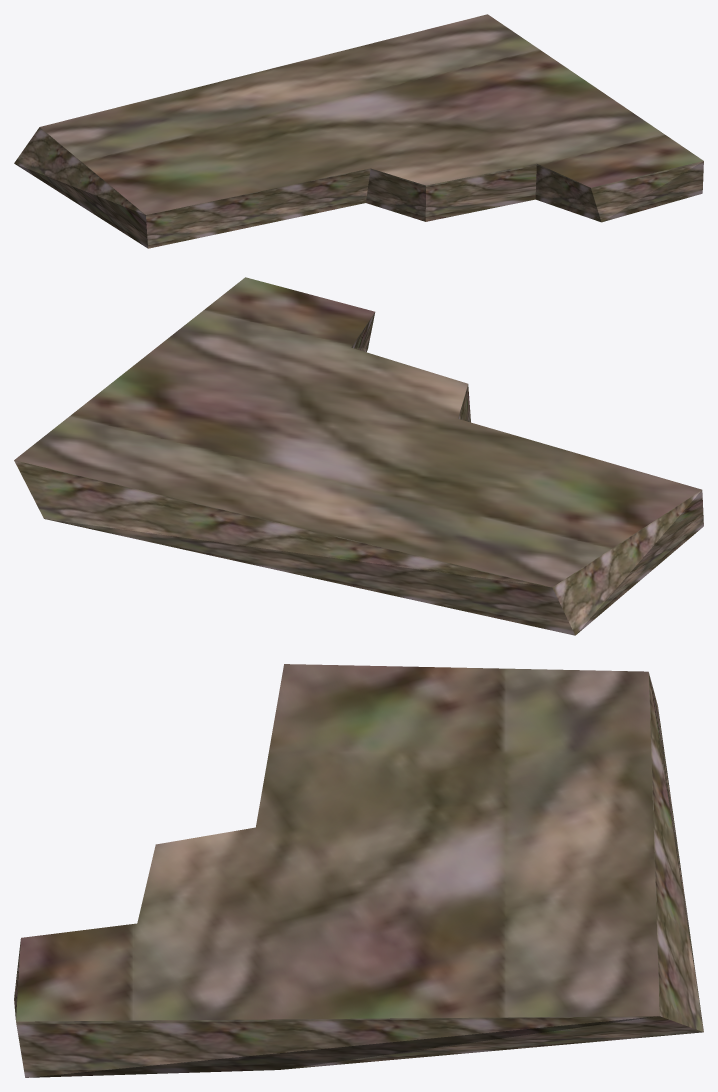
Rendered from Island_1_Block_2.gltf.
3 renders of one model, top to bottom at view 1: azimuth 30°, elevation 25°; view 2: azimuth 150°, elevation 25°; view 3: azimuth 270°, elevation 25°, orthographic. The views are drawn at different scales.
Parts seen in each view (by area): view 1: Island_1_Block_2; view 2: Island_1_Block_2; view 3: Island_1_Block_2.
Boxes of the visible parts, x1,y1,x2,y2 form: Island_1_Block_2: (14,14,703,248); Island_1_Block_2: (14,277,703,635); Island_1_Block_2: (14,664,703,1077).
Bounding box in the file's own units: 9.88 × 0.7081 × 7.77.
Materials: 1 (1 with a texture image).
